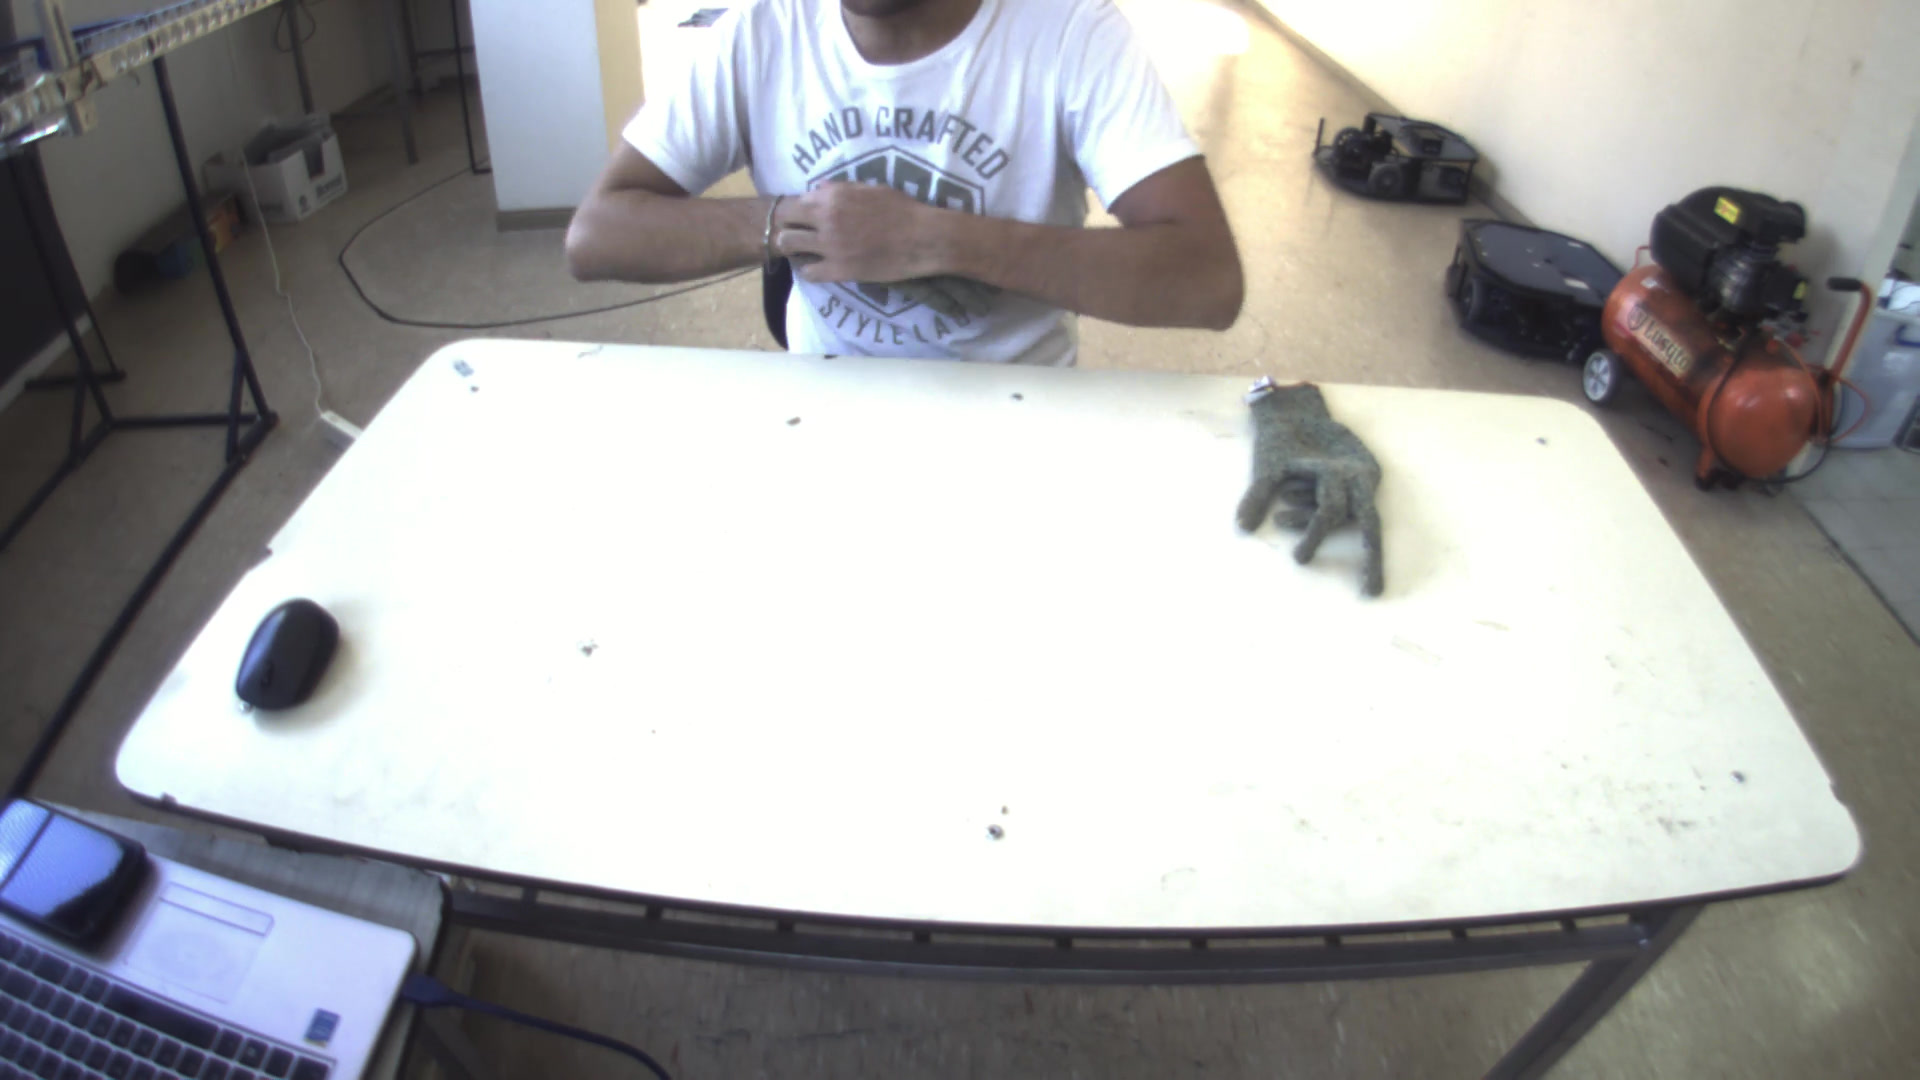hand: (757, 170, 934, 285)
